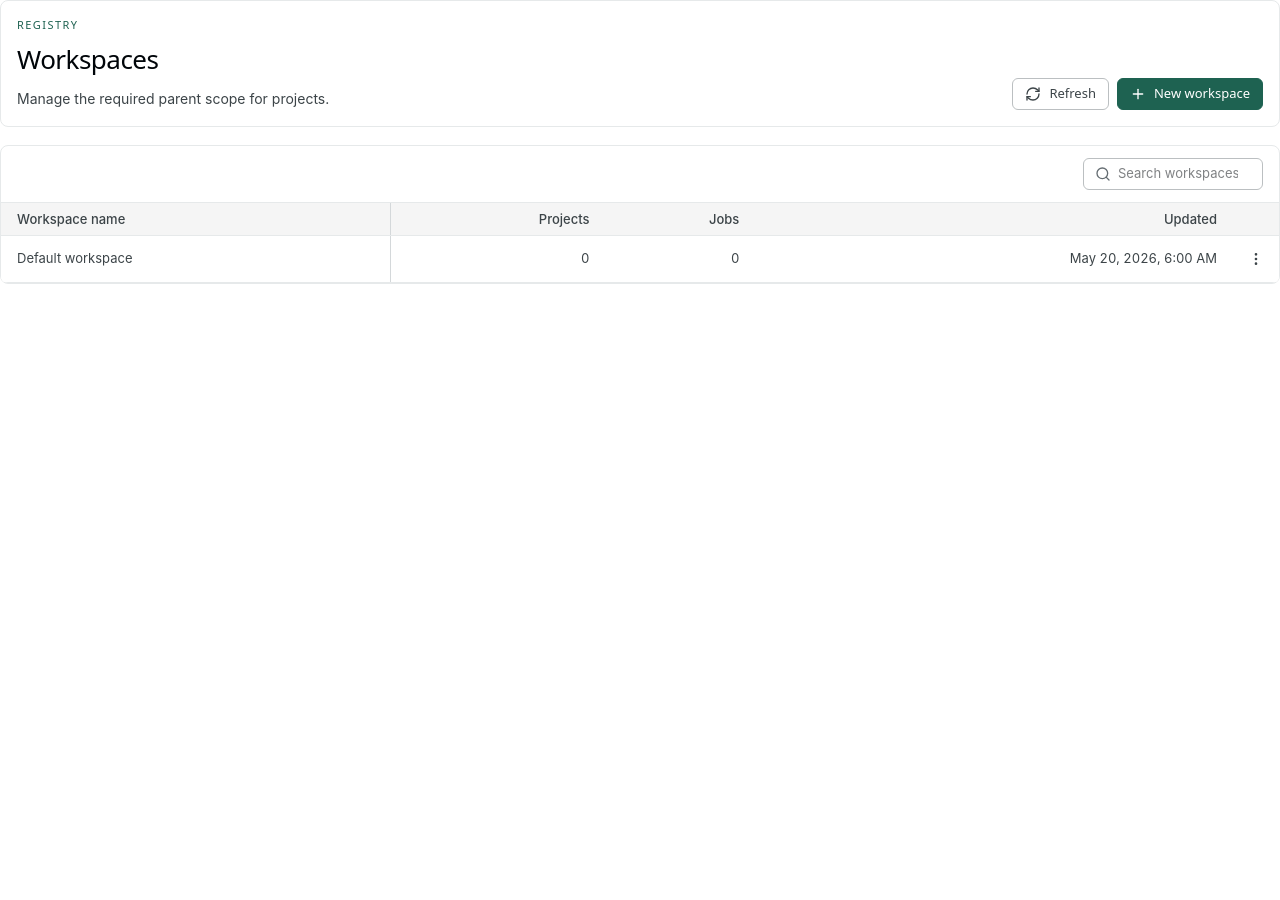
Test: RegistryWorkspacesPage › maps a duplicate workspace conflict to the workspace-name field
The width and height of the screenshot is (1280, 900).
Step 1. Click the button "New workspace" → (1190, 94), box [1117, 78, 1263, 110]
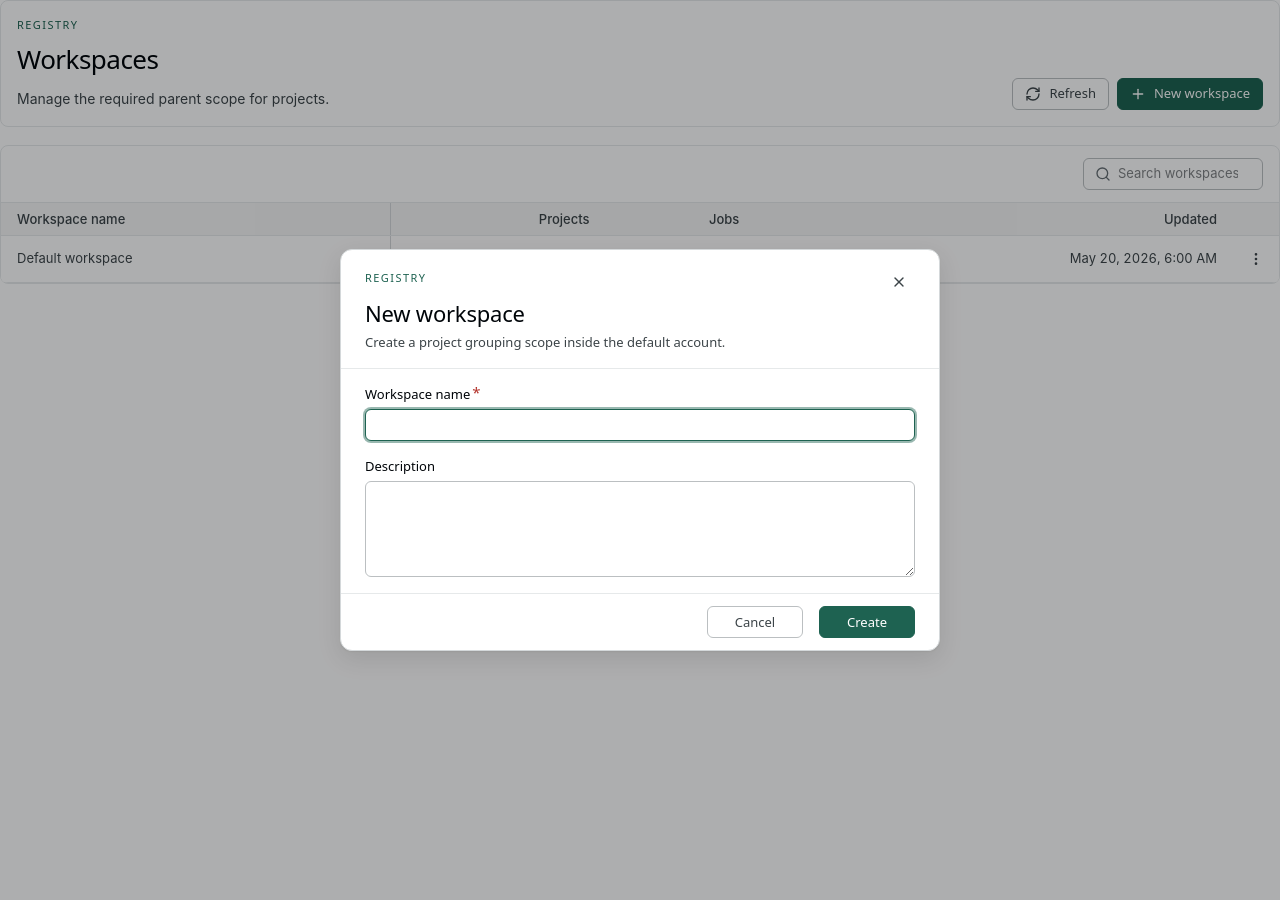
Step 2. Type "Release" into the field labelled "Workspace name" → (640, 425), box [365, 409, 915, 441]
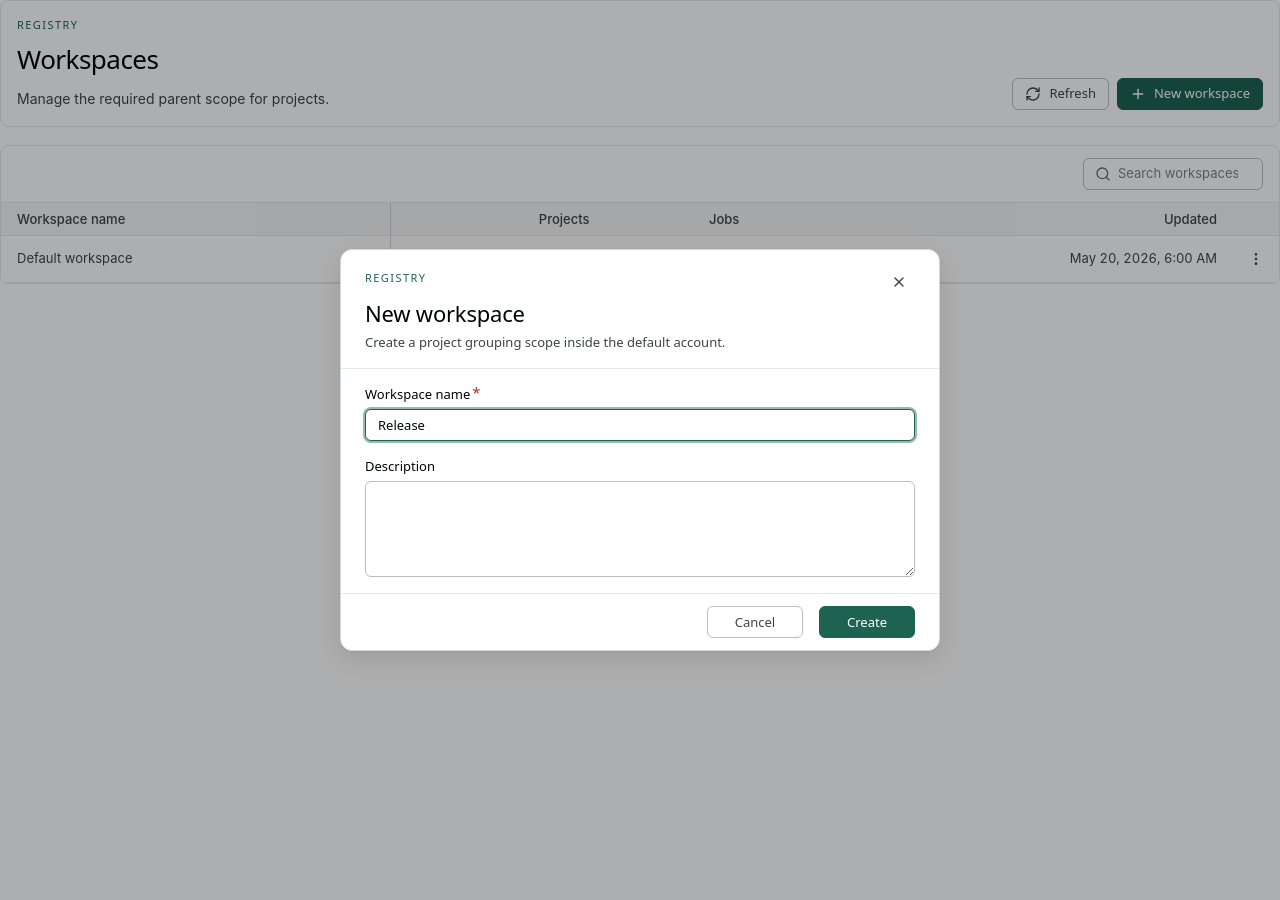
Step 3. Click the button "Create" → (867, 622), box [819, 606, 915, 638]
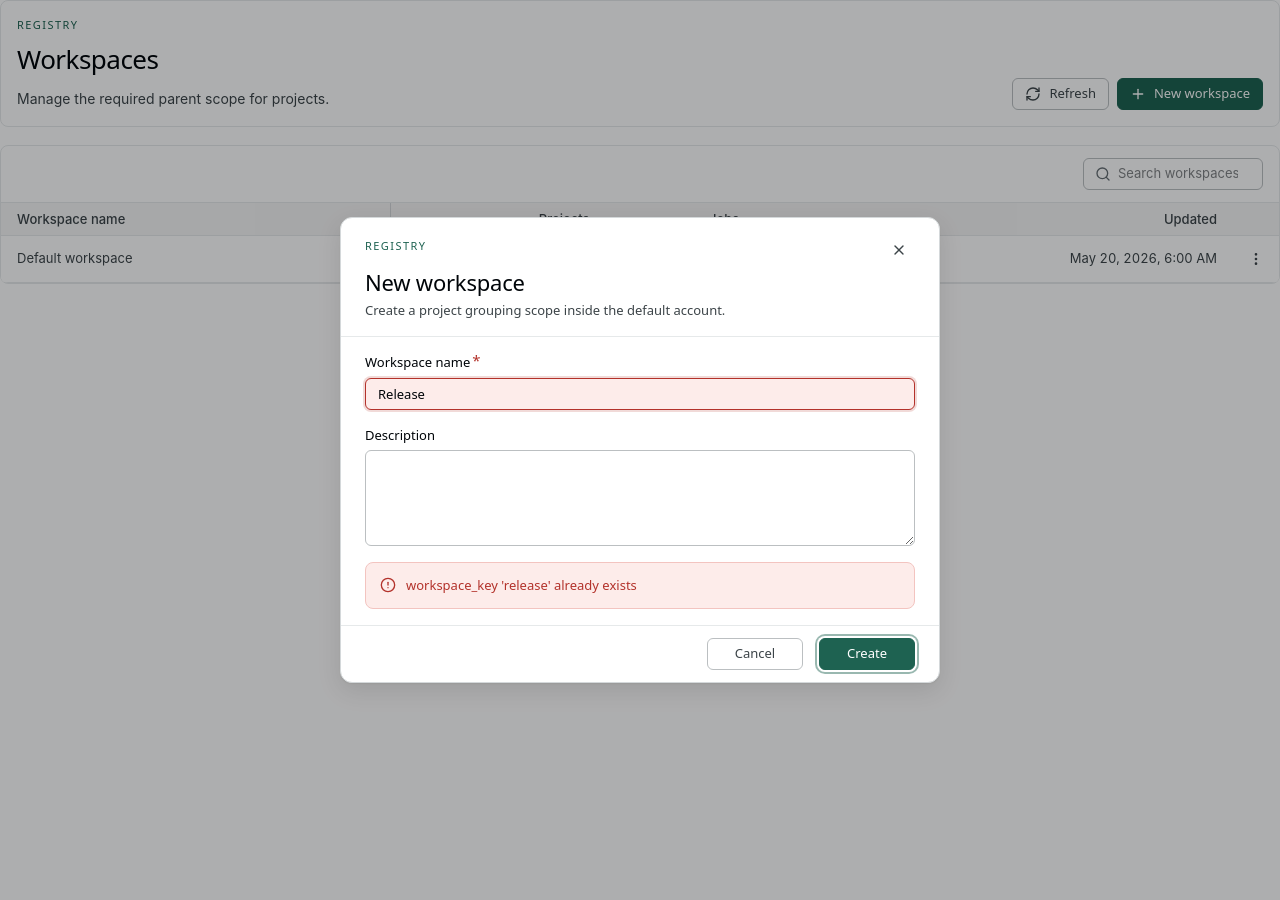
Now the message reads "workspace_key 'release' already exists", box [406, 576, 637, 594]
